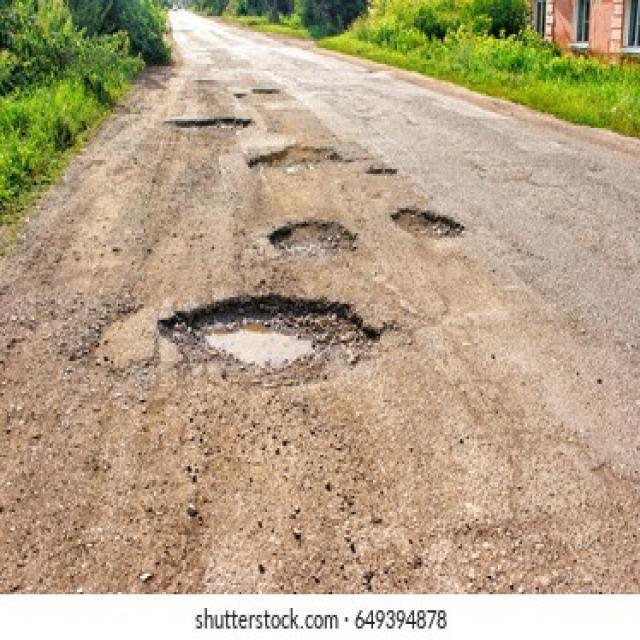pothole: (152, 291, 380, 387), (265, 220, 356, 259), (247, 142, 350, 174), (388, 206, 464, 242), (164, 114, 255, 133), (367, 165, 401, 177), (250, 85, 281, 96), (233, 92, 247, 103)
